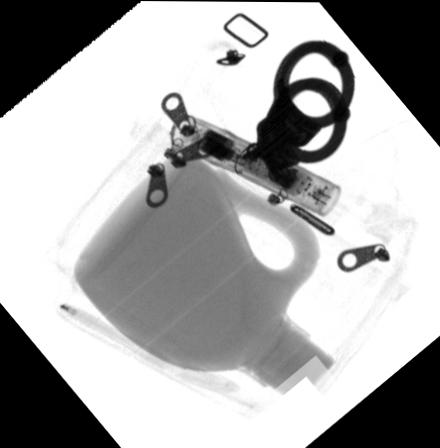Baton: (167, 112, 343, 217)
HandCuffs: (244, 38, 354, 171)
